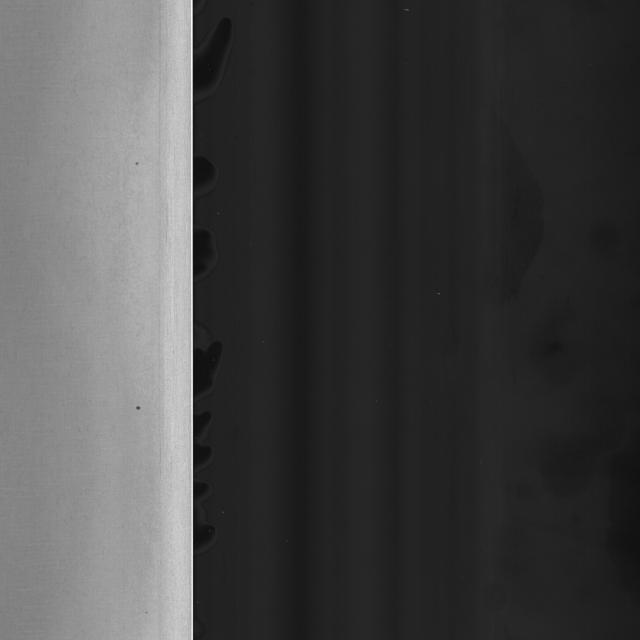oil_spot: (133, 395, 145, 427)
